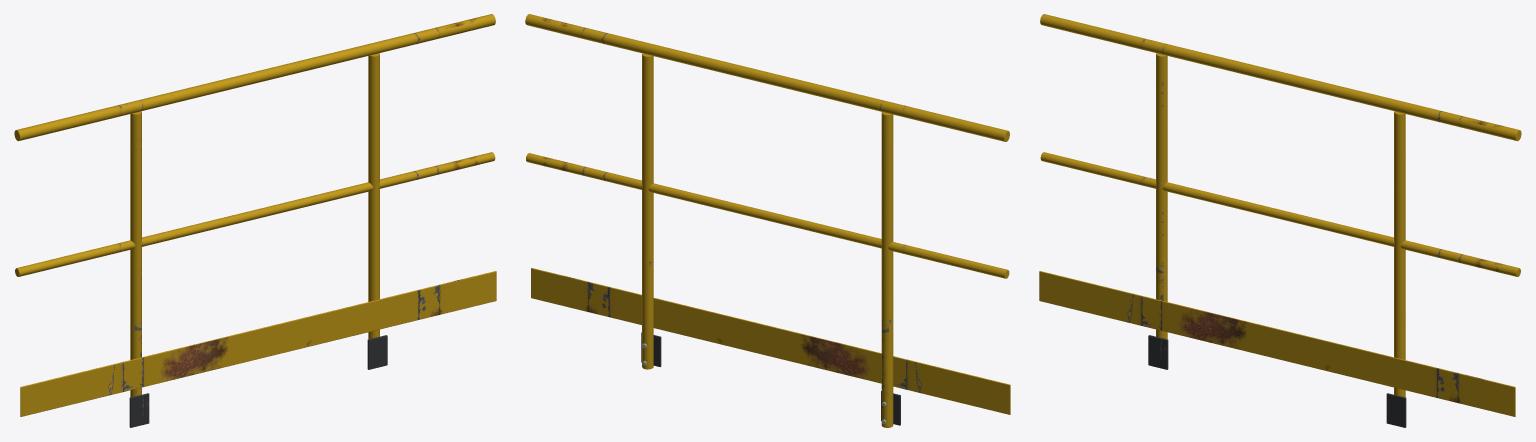
Rendered from SM_IK_Railing_200.fbx.
3 views of the same model, side by side, from view 1: azimuth 30°, elevation 25°; view 2: azimuth 150°, elevation 25°; view 3: azimuth 330°, elevation 25° (orthographic).
Visible parts, largest first — view 1: SM_IK_Railing_200; view 2: SM_IK_Railing_200; view 3: SM_IK_Railing_200.
Boxes of the visible parts, left/top/right/bottom form: SM_IK_Railing_200: left=14, top=14, right=496, bottom=427; SM_IK_Railing_200: left=525, top=14, right=1010, bottom=427; SM_IK_Railing_200: left=1039, top=14, right=1521, bottom=427.
Size of what is drawn, in the model's own units: 200 by 5.6 by 129.
